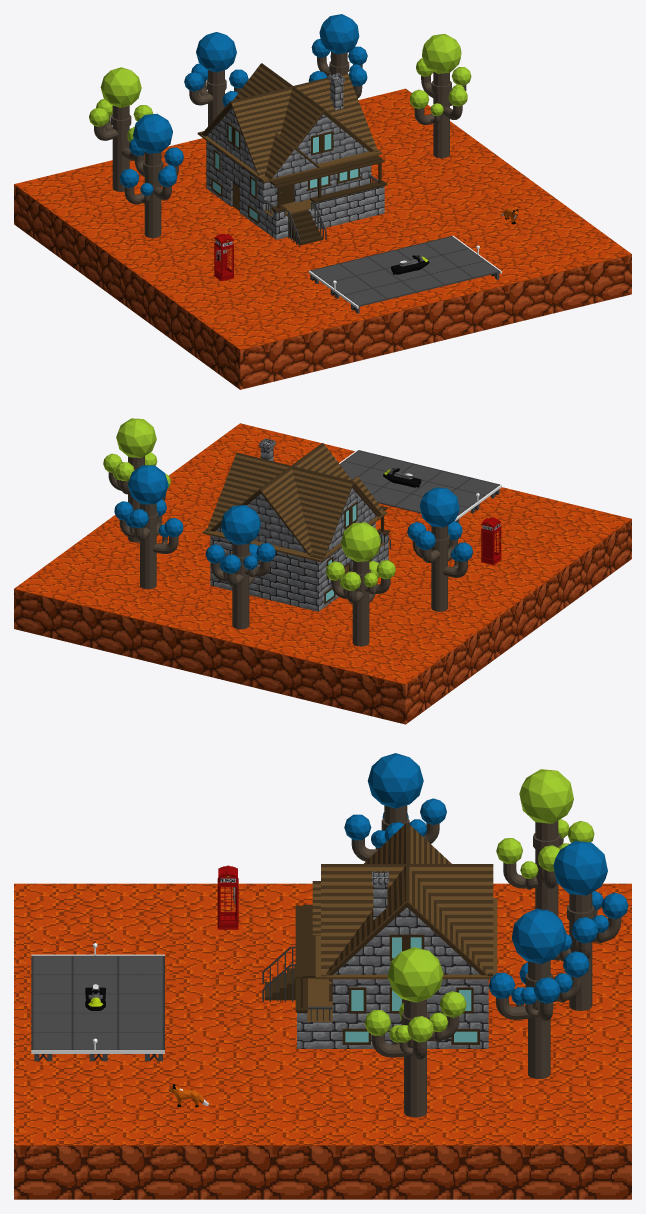
The picture shows the model from 3 angles, top to bottom: view 1: azimuth 30°, elevation 25°; view 2: azimuth 150°, elevation 25°; view 3: azimuth 270°, elevation 25°; orthographic projection. The views are drawn at different scales.
Visible parts, largest first — view 1: Cube.001, Cube.586, OBJRANDOM_PHONEBOOTH; view 2: Cube.001, Cube.586, OBJRANDOM_PHONEBOOTH, VEHICLES_WATERBIKE; view 3: Cube.001, Cube.586, OBJRANDOM_PHONEBOOTH.
Part boxes in pixels (x1,y1,x2,y2): Cube.001: (14,14,631,389); Cube.586: (197,63,387,246); OBJRANDOM_PHONEBOOTH: (213,234,233,281); Cube.001: (14,418,631,724); Cube.586: (202,438,390,611); OBJRANDOM_PHONEBOOTH: (481,517,501,565); VEHICLES_WATERBIKE: (383,468,421,487); Cube.001: (14,753,631,1199); Cube.586: (262,823,497,1048); OBJRANDOM_PHONEBOOTH: (217,865,238,929).
Size of the model in its own units: 4000 by 1637 by 4000.
32 materials, 5 textured.
